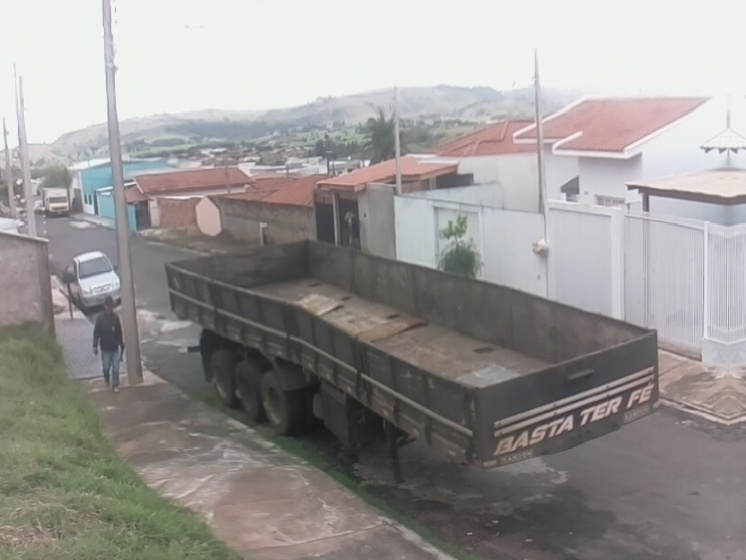person: (92, 295, 128, 395)
